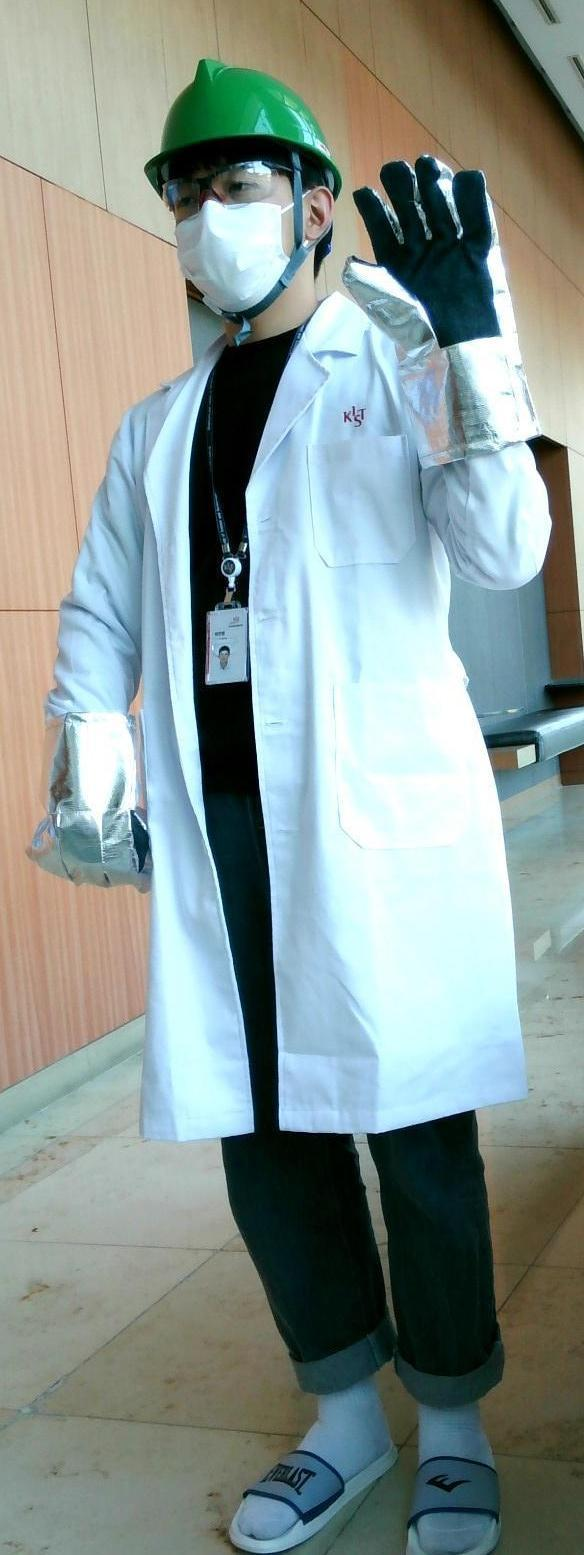lab_coat: (137, 441, 529, 1132)
